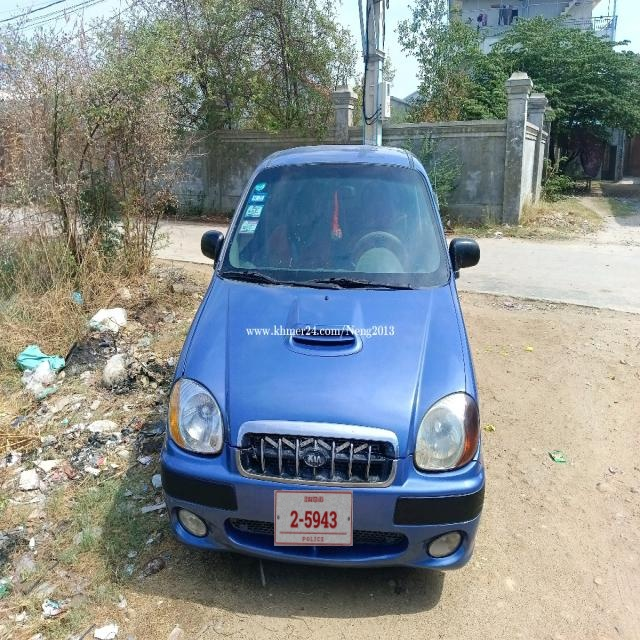Plate Number: (275, 490, 353, 546)
